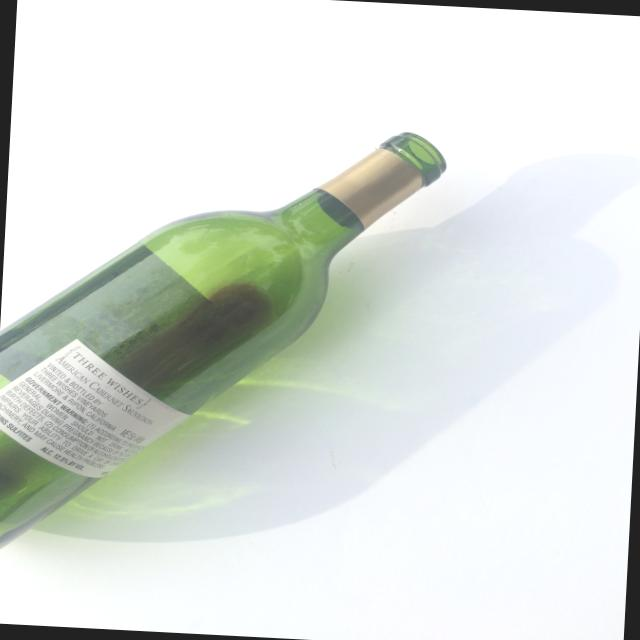Glass: (0, 107, 458, 584)
